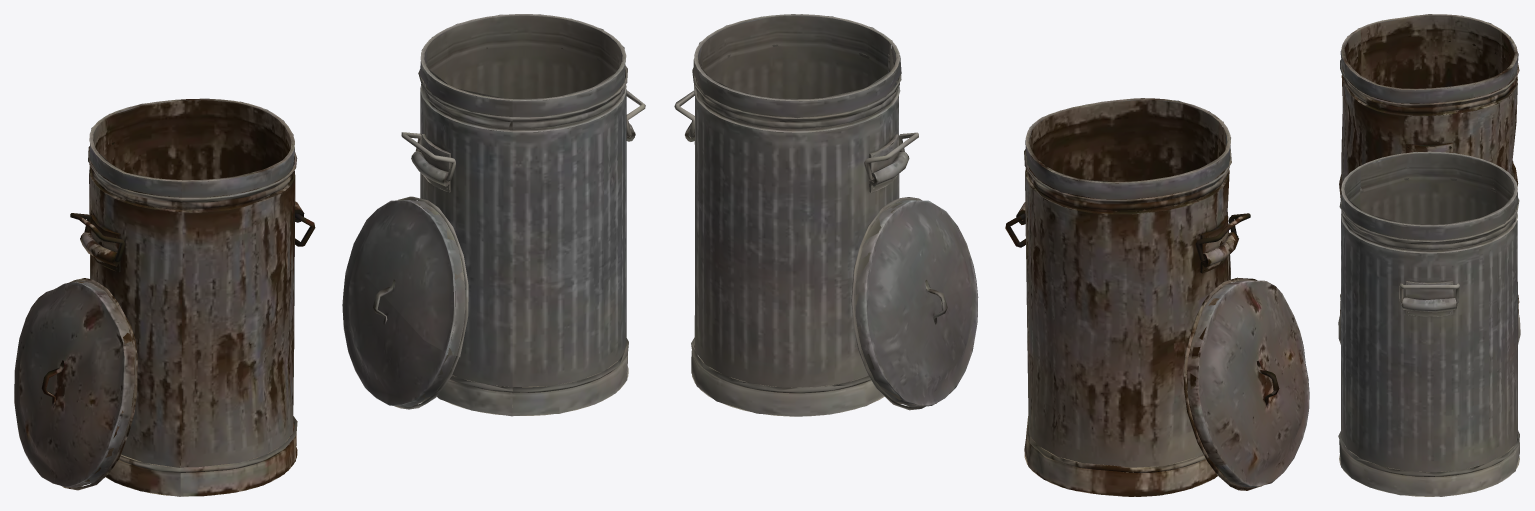
Rendered from metal_trash_can.glb.
3 renders of one model, left to right at view 1: azimuth 30°, elevation 25°; view 2: azimuth 150°, elevation 25°; view 3: azimuth 270°, elevation 25°, orthographic. The views are drawn at different scales.
Parts seen in each view (by area): view 1: metal_trash_can, metal_trash_can_rust, metal_trash_can_lid, metal_trash_can_rust_lid; view 2: metal_trash_can, metal_trash_can_rust, metal_trash_can_lid, metal_trash_can_rust_lid; view 3: metal_trash_can, metal_trash_can_rust, metal_trash_can_handle_right.
Part boxes in pixels (x1,y1,x2,y2): metal_trash_can: (411,14,635,416); metal_trash_can_rust: (80,98,304,496); metal_trash_can_lid: (342,196,468,409); metal_trash_can_rust_lid: (14,278,137,490); metal_trash_can: (685,14,909,416); metal_trash_can_rust: (1016,98,1238,496); metal_trash_can_lid: (851,197,978,410); metal_trash_can_rust_lid: (1183,277,1309,490); metal_trash_can: (1338,151,1519,496); metal_trash_can_rust: (1340,14,1519,315); metal_trash_can_handle_right: (1399,283,1459,303).
Size of the model in its own units: 1.78 by 0.9063 by 0.5559.
3 materials, 3 textured.
